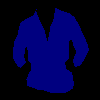felpa: (12, 7, 88, 93)
